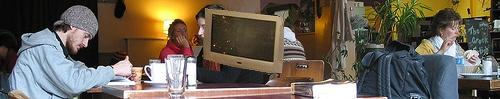tampered: (203, 9, 284, 73)
